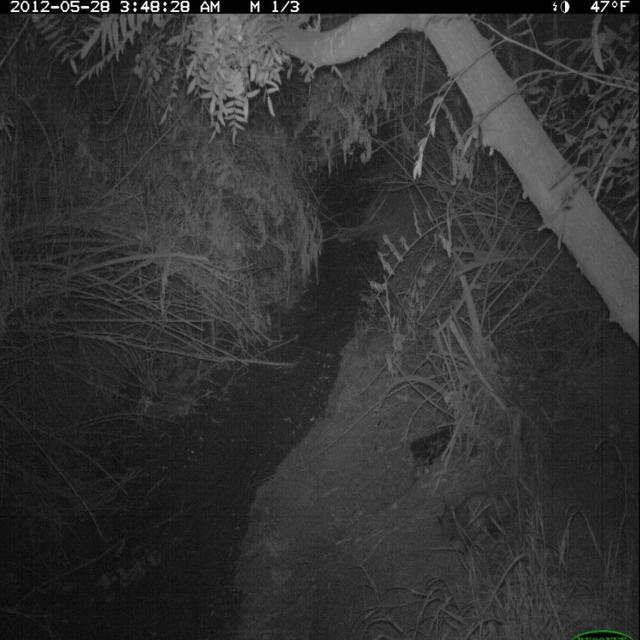opossum: (433, 487, 531, 559)
